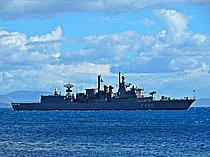MIL_Ship: (9, 70, 196, 112)
